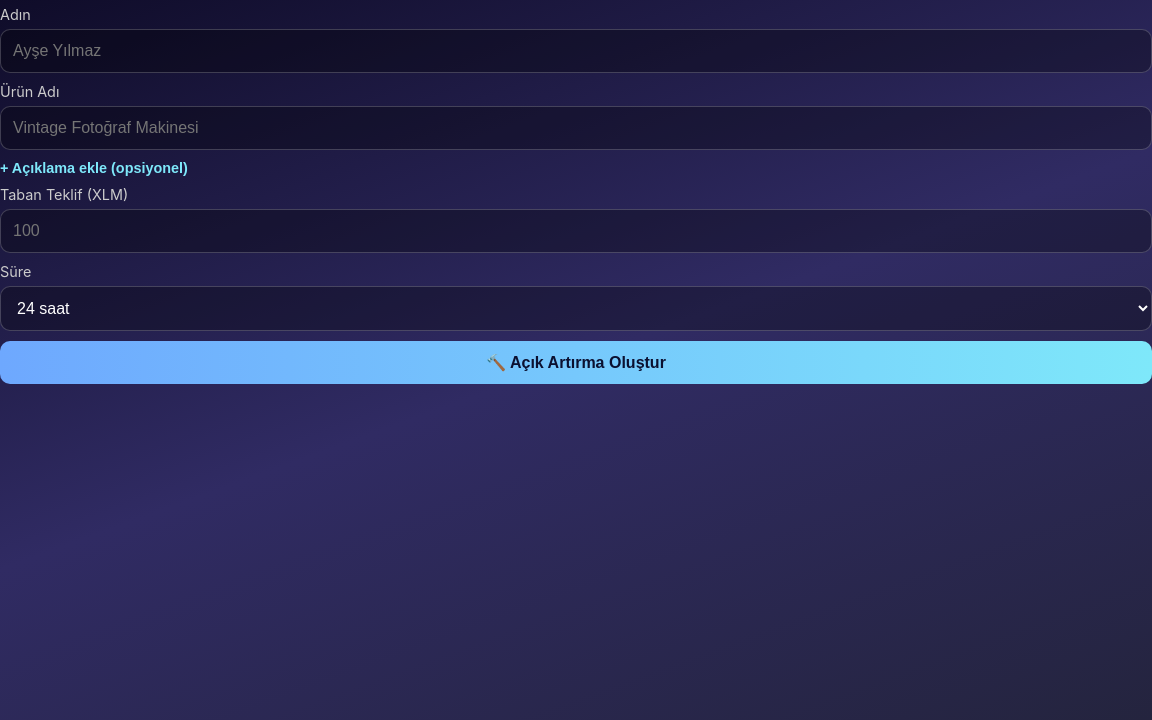
Scenario: AuctionForm › reveals the description field when its toggle is clicked
This screenshot has width=1152, height=720.
What coordinates should you click on to do the following:
click the button "+ Açıklama ekle (opsiyonel)"
I would click on:
 (94, 168)
Its box is [0, 160, 188, 176].
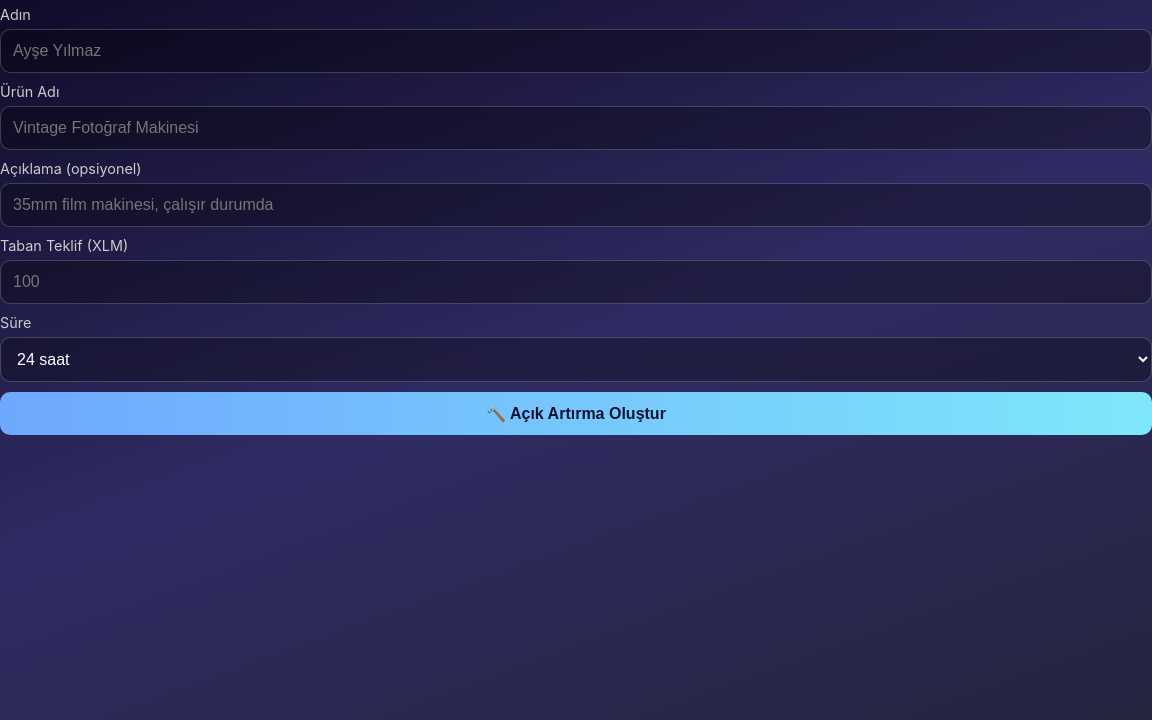
Result: the field labelled "Açıklama (opsiyonel)" is shown at [0, 183, 1151, 227]
